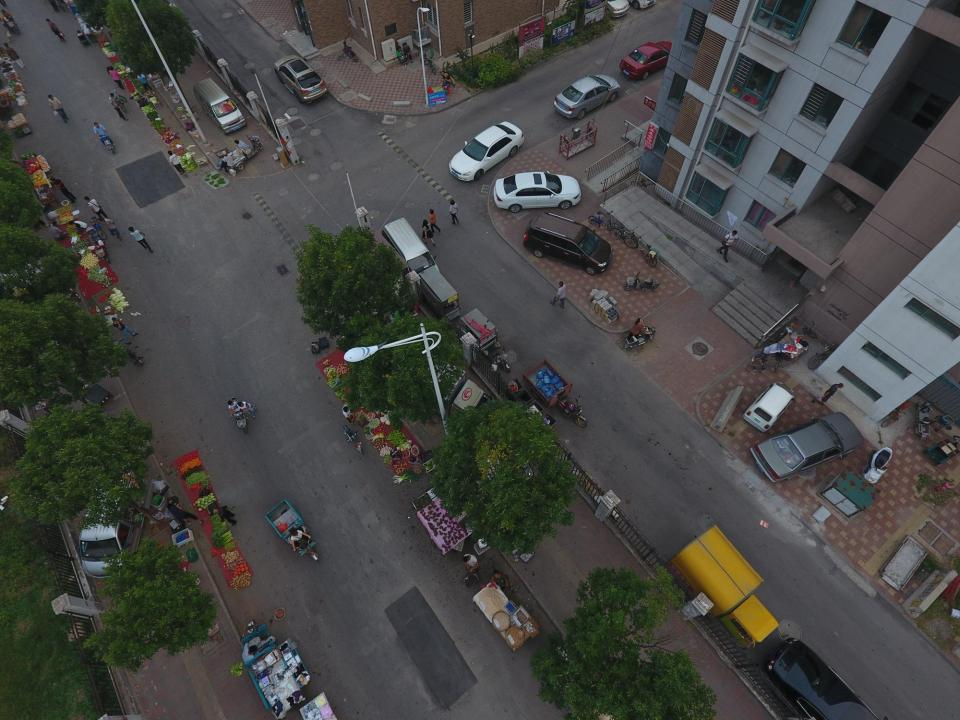car: (762, 638, 889, 720), (749, 412, 864, 482), (448, 121, 524, 181), (493, 171, 581, 213), (553, 74, 621, 120), (742, 382, 796, 433), (274, 54, 328, 104), (619, 40, 680, 80), (624, 0, 657, 9)
truck: (663, 524, 779, 650), (382, 342, 495, 433)
van: (79, 435, 155, 580), (522, 210, 612, 276), (380, 217, 440, 290), (193, 78, 247, 136), (599, 0, 630, 18)
